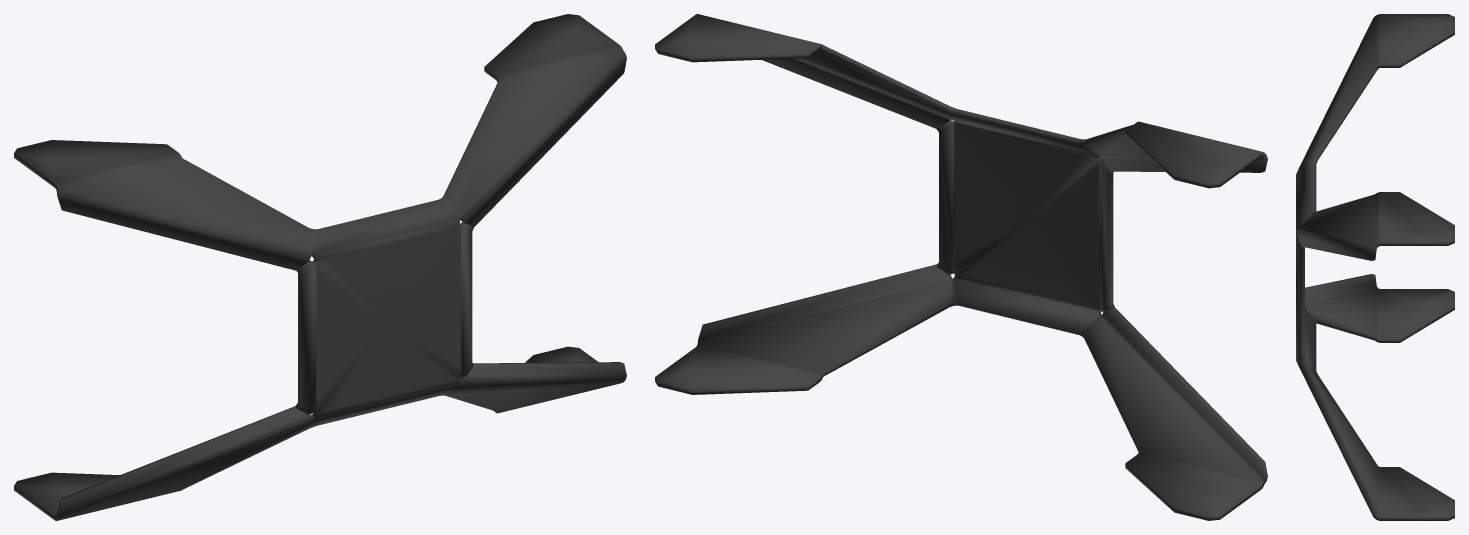
Rendered from lidar_mount.obj.
3 views of the same model, side by side, from view 1: azimuth 30°, elevation 25°; view 2: azimuth 150°, elevation 25°; view 3: azimuth 270°, elevation 25° (orthographic). The views are drawn at different scales.
Bounding box in the file's own units: 0.3947 × 0.2236 × 0.1155.
1 material, 1 textured.
